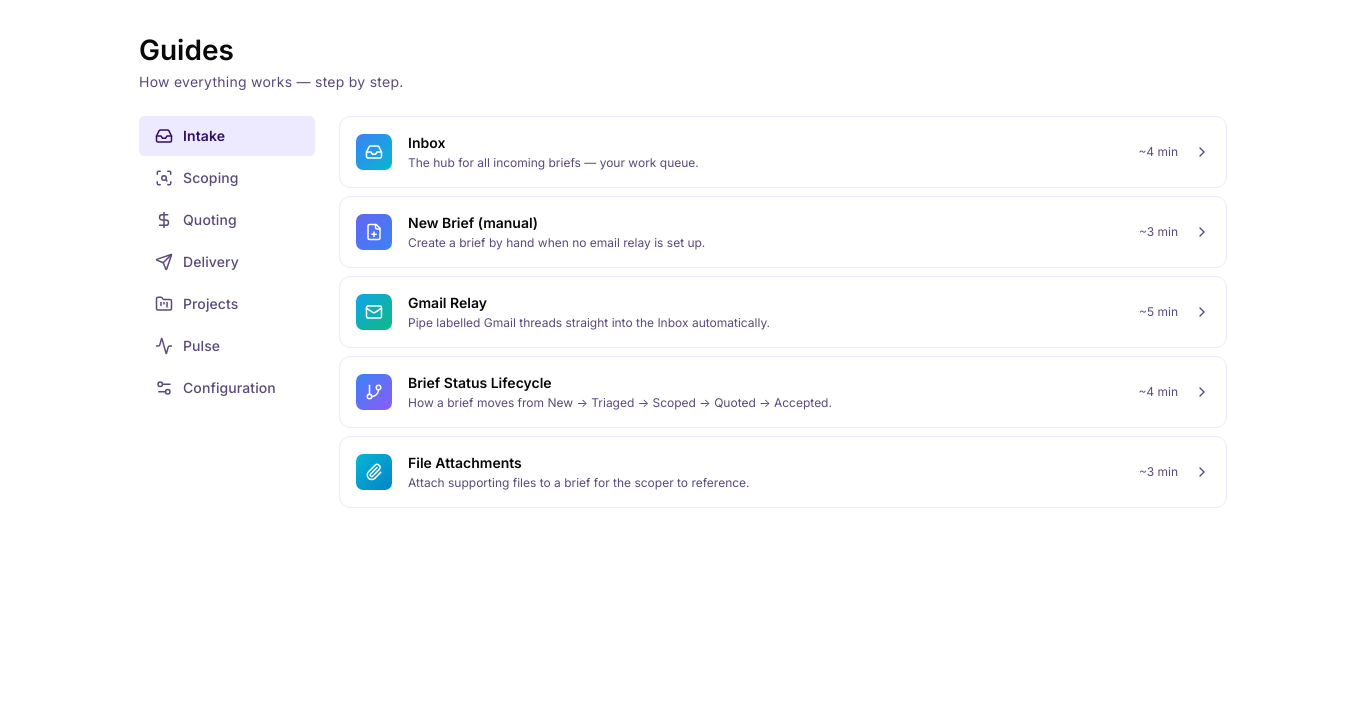
GuidesPage › collapses an open step when clicked again
Click the text "Inbox". click: (427, 142)
box: [408,134,445,151]
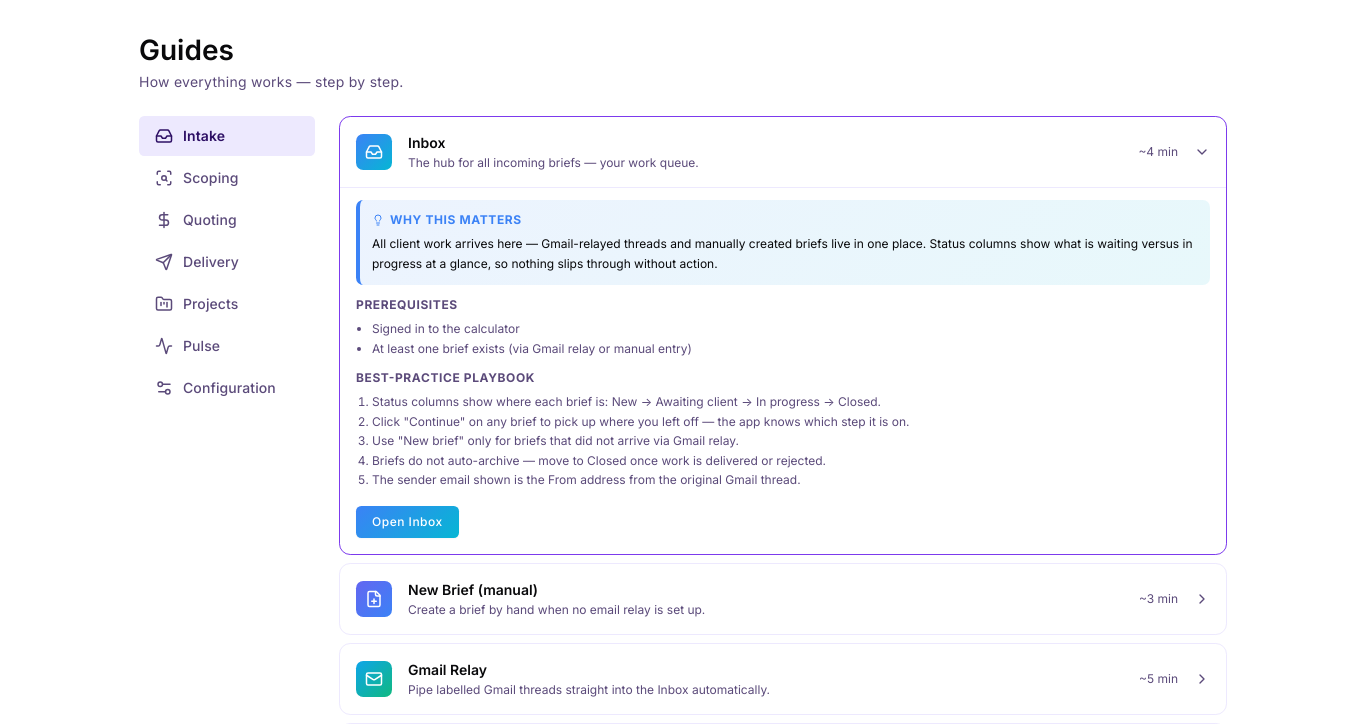
Now the text "Why this matters" is shown, box [372,212,522,227]
Click the text "Inbox". click: (427, 142)
box: [408,134,445,151]
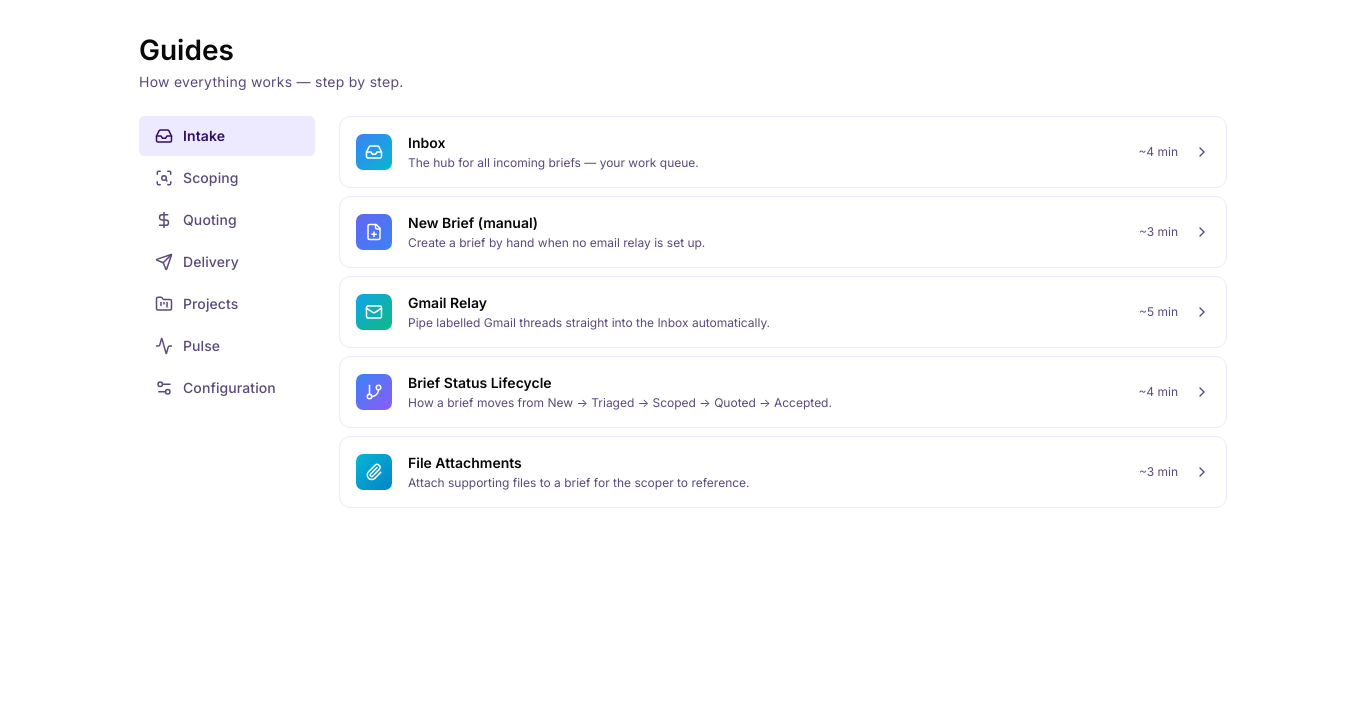
Now the text "Why this matters" is gone
